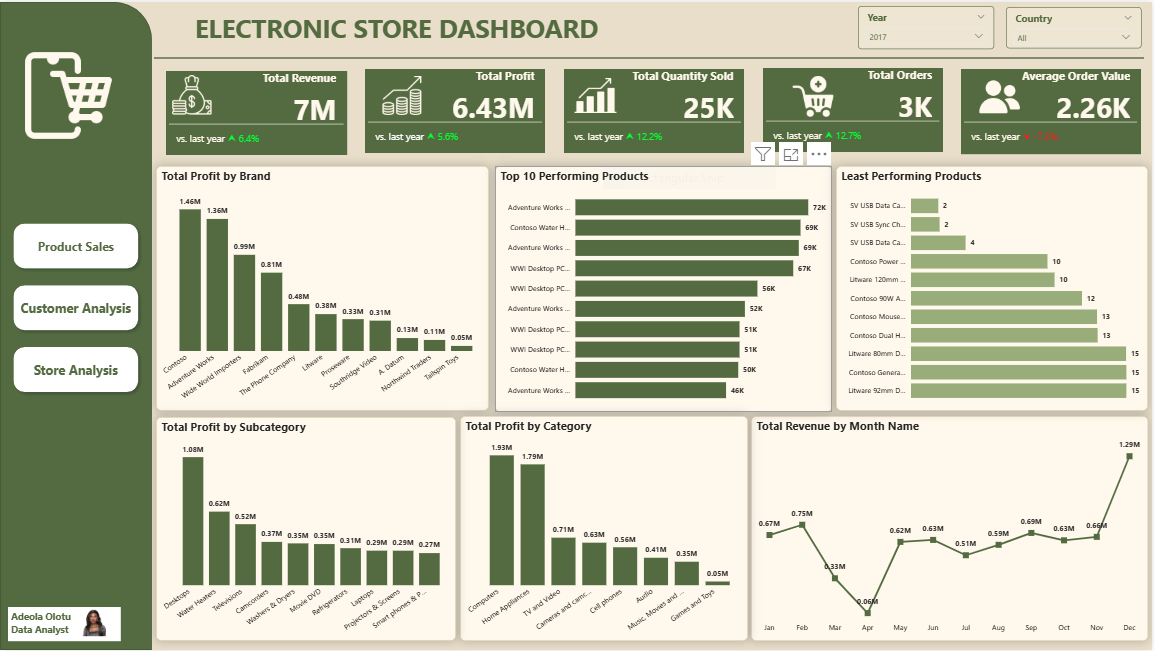

This screenshot's page, from the dashboard's own definition file:
{"tool":"powerbi","page":{"name":"Product Sales","canvas":[1920,1080],"ordinal":0},"visuals":[{"type":"cardVisual","fields":{"Data":["Measures (2).Total Revenue"]},"box":[276.7,114.5,301.7,140],"z":0},{"type":"cardVisual","fields":{"Data":["Measures (2).Total Profit"]},"box":[609.1,111.2,300.3,140.5],"z":1000},{"type":"cardVisual","fields":{"Data":["Measures (2).Total Quantity Sold"]},"box":[940.1,111.8,300.3,140.5],"z":2000},{"type":"cardVisual","fields":{"Data":["Measures (2).Average Order Value"]},"box":[1601.4,112.4,299.5,142],"z":3000},{"type":"cardVisual","fields":{"Data":["Measures (2).Total Oders"]},"box":[1271.2,110.8,299.5,140.2],"z":4000},{"type":"lineChart","fields":{"Y":["Measures (2).Total Revenue"],"Category":["Calendar.Month Name"]},"box":[1251.7,690,661.7,375],"z":5000},{"type":"clusteredColumnChart","fields":{"Category":["Products.Brand"],"Y":["Measures (2).Total Profit"]},"box":[260,273.3,555,408.3],"z":6000},{"type":"clusteredBarChart","title":"Top 10 Performing Products","fields":{"Category":["Products.Product Name"],"Y":["Measures (2).Total Revenue"]},"box":[825,273.3,561.7,410],"z":7000},{"type":"clusteredBarChart","title":"Least Performing Products","fields":{"Category":["Products.Product Name"],"Y":["Measures (2).Total Revenue"]},"box":[1393.3,273.3,520,408.3],"z":8000},{"type":"columnChart","fields":{"Category":["Products.Category"],"Y":["Measures (2).Total Profit"]},"box":[766.7,690,480,375],"z":9000},{"type":"slicer","fields":{"Values":["Customers.Country"]},"box":[1676.5,9,225.6,68.7],"z":10000},{"type":"shape","box":[0,0,253.3,1080],"z":11000},{"type":"columnChart","fields":{"Category":["Products.Subcategory"],"Y":["Measures (2).Total Profit"]},"box":[260,691.7,500,373.3],"z":12000},{"type":"textbox","box":[320,8.6,695.7,90],"z":13000},{"type":"slicer","fields":{"Values":["Calendar.Year"]},"box":[1429.9,6,227.1,71.7],"z":14000},{"type":"shape","box":[256.7,83.3,1650,20],"z":15000},{"type":"image","box":[26.9,62.8,174.8,185.3],"z":16000},{"type":"image","box":[276.4,116.5,85.2,76.2],"z":17000},{"type":"image","box":[623.1,118,92.6,74.7],"z":18000},{"type":"image","box":[1295.4,118,119.5,77.7],"z":19000},{"type":"image","box":[950.3,107.6,85.2,95.6],"z":20000},{"type":"image","box":[1625.6,113.6,82.2,85.2],"z":21000},{"type":"pageNavigator","box":[13.3,360,226.7,300],"z":22000},{"type":"textbox","box":[13.3,1008.3,188.3,56.7],"z":22001},{"type":"image","box":[101.7,1005,103.3,56.7],"z":22002}]}

Visuals, with their boxes in screenshot pixels (x1, y1, x2, y2), scaled from the page's 1920x1080 canvas onto the 1154x651 screenshot:
cardVisual - Measures (2).Total Revenue: 166,69,348,153
cardVisual - Measures (2).Total Profit: 366,67,547,152
cardVisual - Measures (2).Total Quantity Sold: 565,67,746,152
cardVisual - Measures (2).Average Order Value: 963,68,1143,153
cardVisual - Measures (2).Total Oders: 764,67,944,151
lineChart - Measures (2).Total Revenue x Calendar.Month Name: 752,416,1150,642
clusteredColumnChart - Products.Brand x Measures (2).Total Profit: 156,165,490,411
"Top 10 Performing Products" clusteredBarChart: 496,165,833,412
"Least Performing Products" clusteredBarChart: 837,165,1150,411
columnChart - Products.Category x Measures (2).Total Profit: 461,416,749,642
slicer - Customers.Country: 1008,5,1143,47
shape: 0,0,152,650
columnChart - Products.Subcategory x Measures (2).Total Profit: 156,417,457,642
textbox: 192,5,610,59
slicer - Calendar.Year: 859,4,996,47
shape: 154,50,1146,62
image: 16,38,121,150
image: 166,70,217,116
image: 375,71,430,116
image: 779,71,850,118
image: 571,65,622,122
image: 977,68,1026,120
pageNavigator: 8,217,144,398
textbox: 8,608,121,642
image: 61,606,123,640
